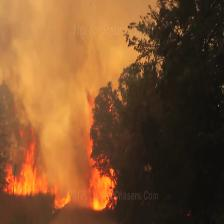fire: (0, 118, 149, 224)
smoke: (1, 0, 218, 116)
